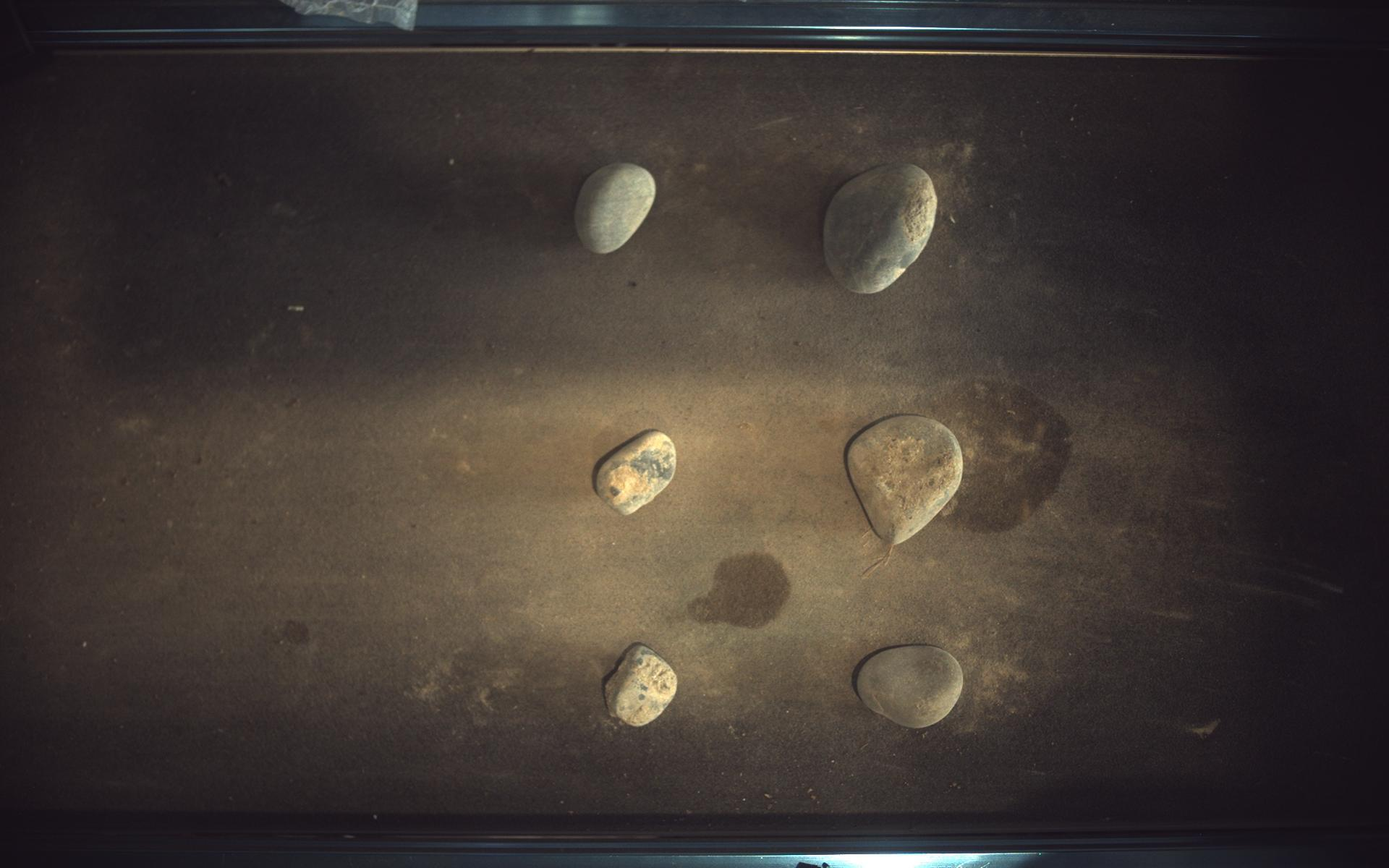stone: (848, 415, 965, 545), (825, 163, 939, 293), (858, 647, 966, 729), (575, 162, 657, 253), (593, 430, 676, 516), (605, 644, 679, 728)
